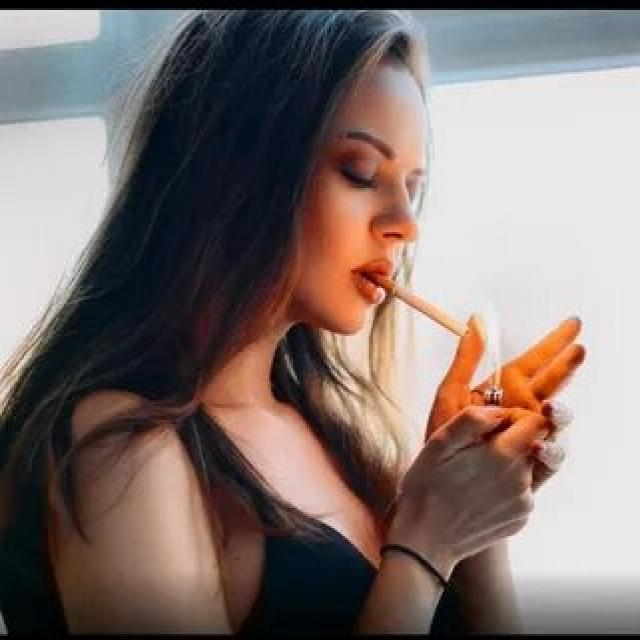smoke: (363, 266, 472, 344)
